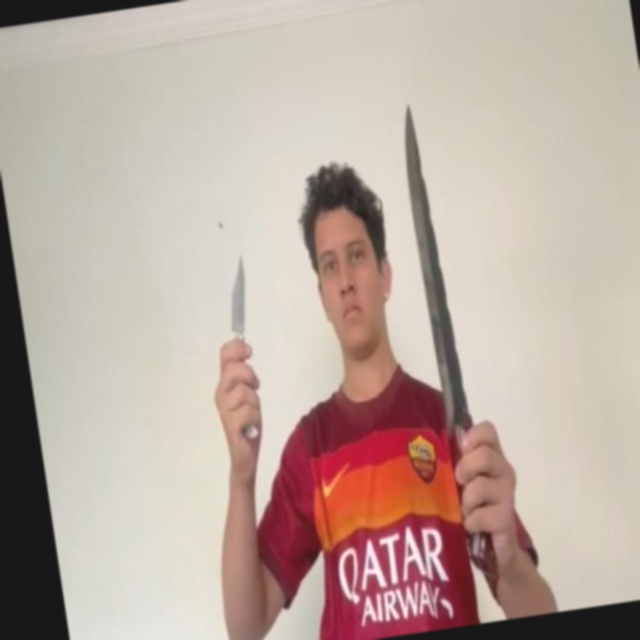Sharp-Object: (395, 104, 470, 435), (220, 254, 254, 332)
